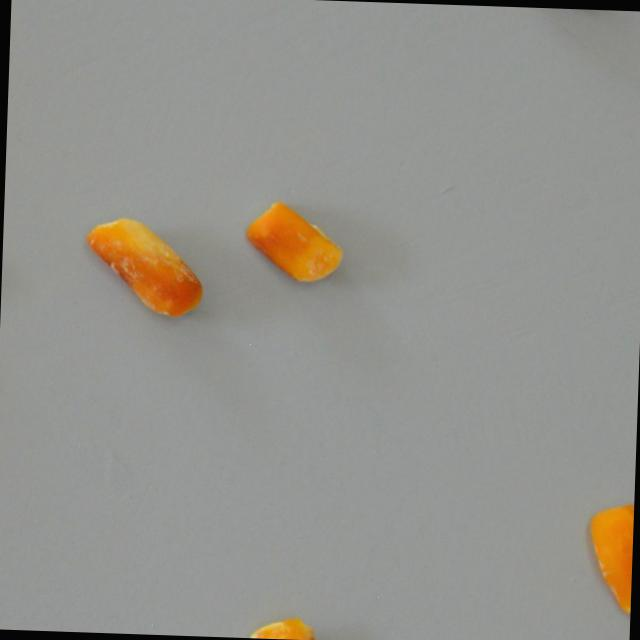dañado: (81, 212, 211, 325), (242, 196, 347, 287), (582, 492, 634, 623), (239, 605, 334, 640)
